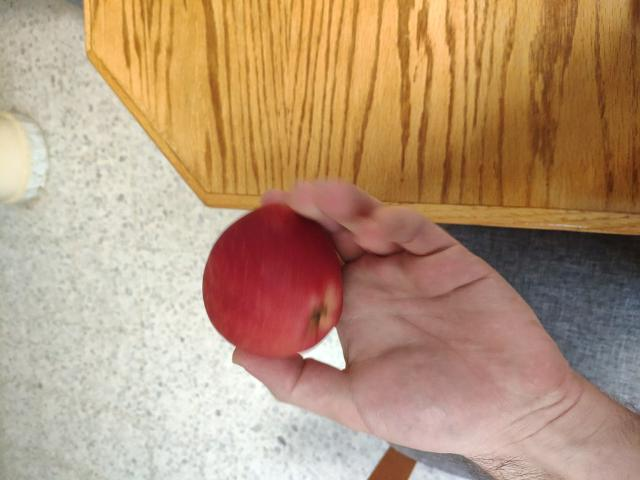apple: (199, 204, 363, 372)
